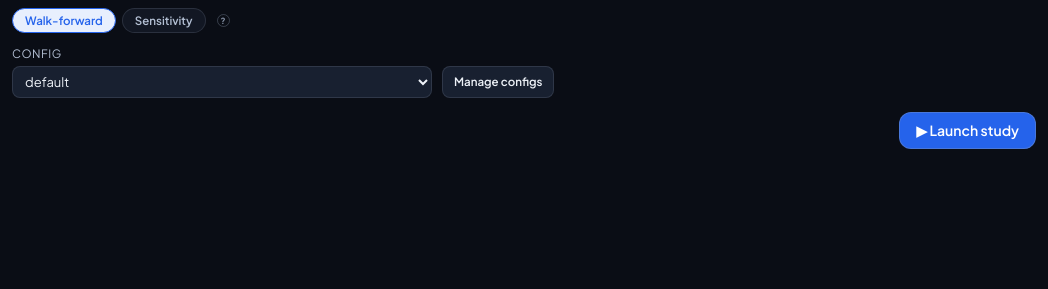
Scenario: StartStudyCard › finished panel offers View results and dismisses via ×
Click the button "▶ Launch study": (968, 130) [899,112,1036,148]
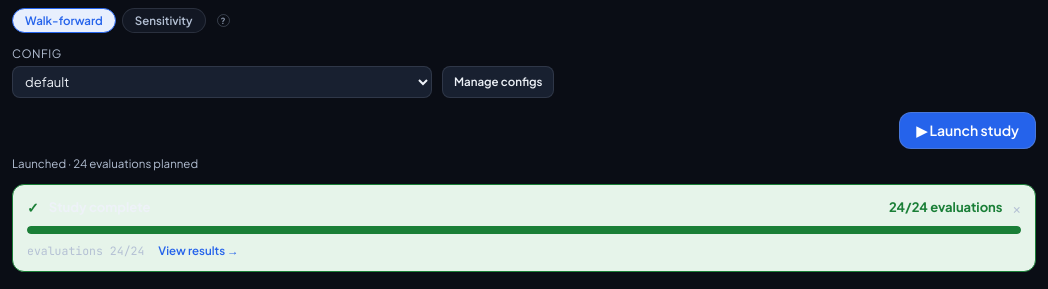
Expected: the element with test id "study-status-panel" is shown, [12,184,1036,272]
Click the button named "dismiss": (1017, 207) [1012,200,1021,214]
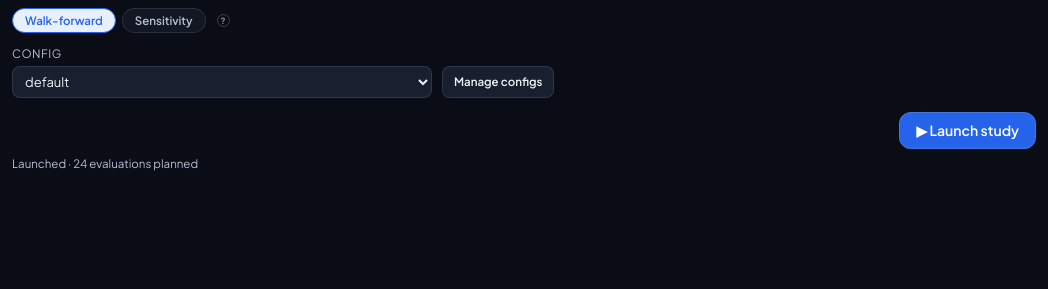
Expected: the element with test id "study-status-panel" is gone
